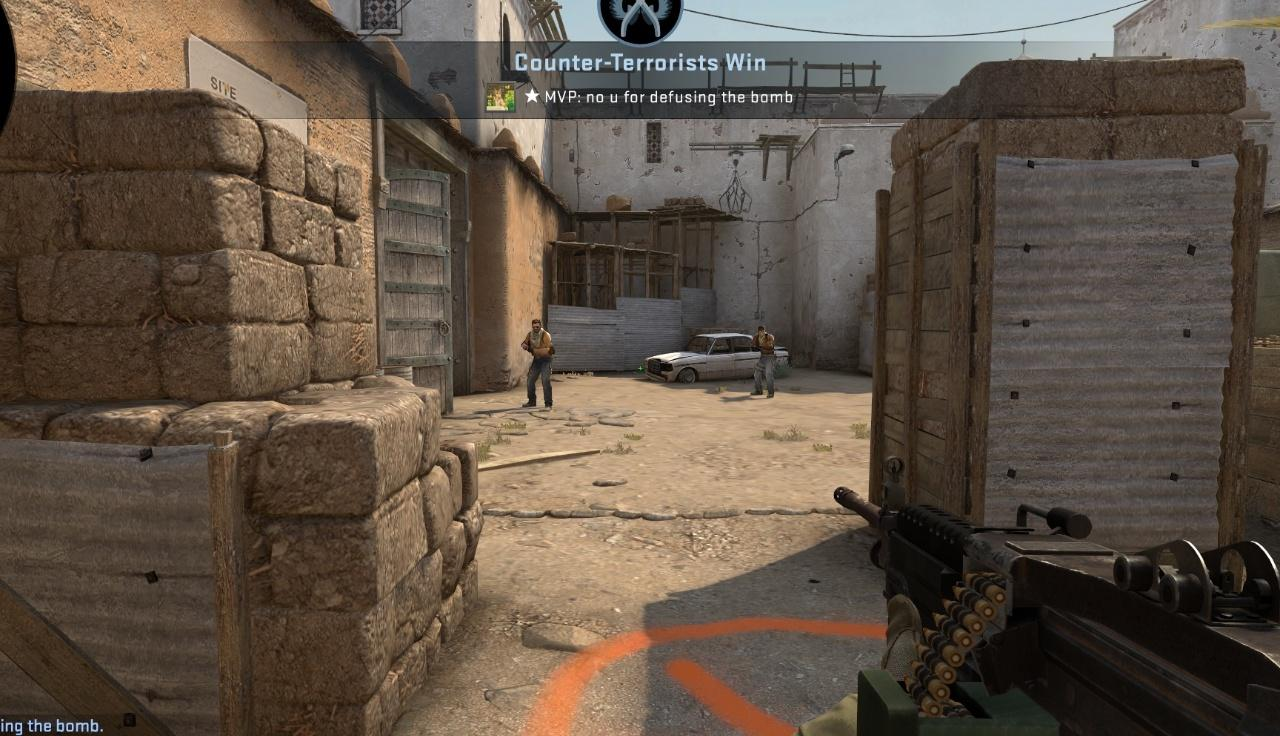rifle: (834, 455, 1280, 736)
tt: (522, 320, 553, 410), (752, 326, 775, 398)
tthead: (532, 320, 541, 332), (758, 326, 765, 336)
